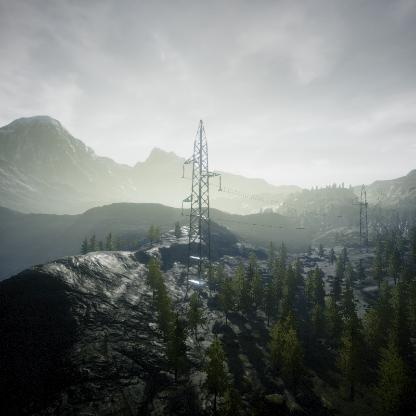tower: (179, 116, 223, 297), (351, 183, 374, 252)
